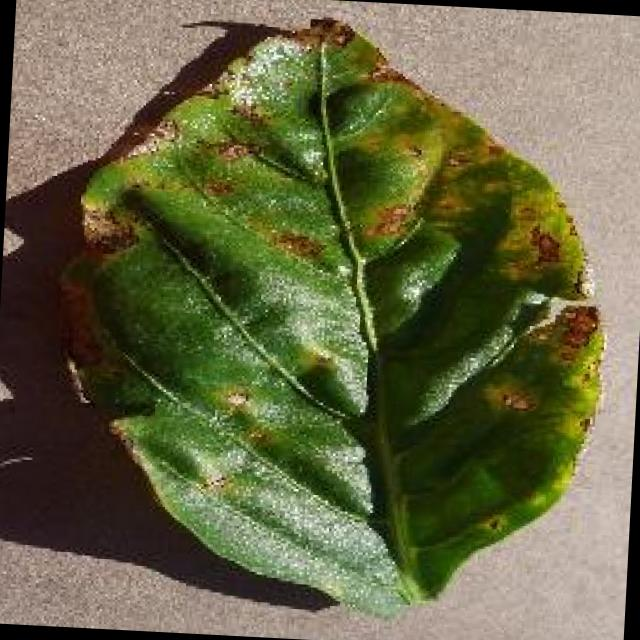Chilli_Bacterial_Spot: (45, 2, 626, 628), (240, 210, 330, 268), (548, 300, 601, 368), (73, 200, 136, 256), (482, 371, 545, 424), (286, 10, 358, 54), (360, 194, 420, 244), (286, 341, 341, 388), (268, 224, 328, 264), (523, 220, 565, 270), (492, 382, 540, 419), (206, 134, 260, 166), (218, 382, 255, 414)
